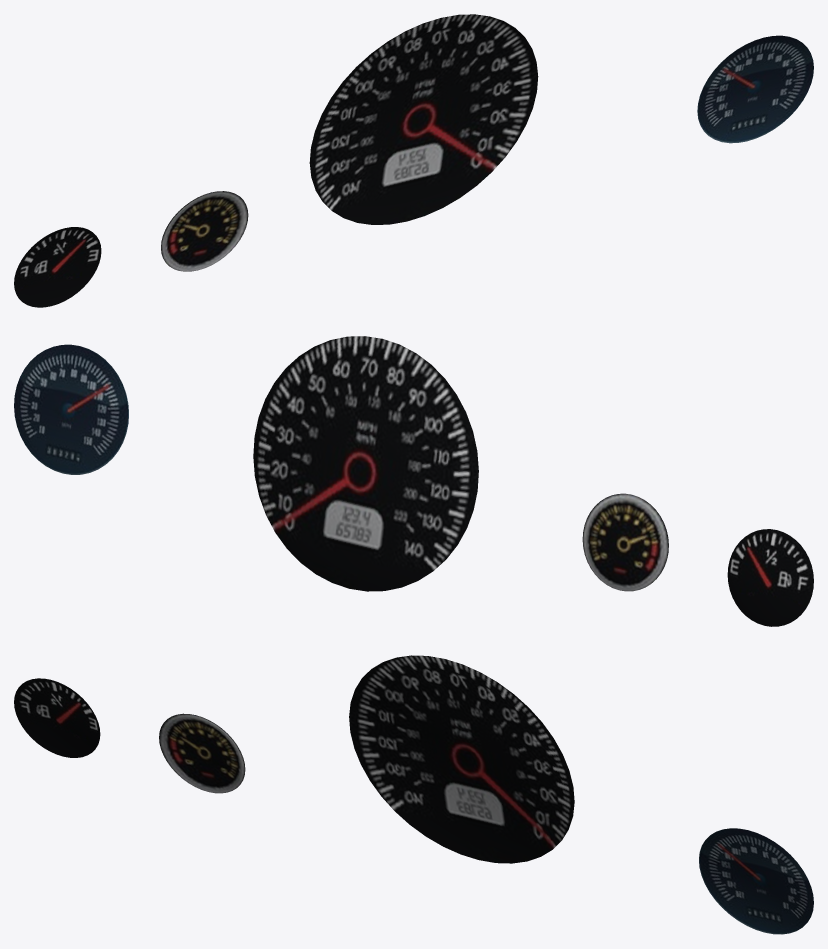
The model's file is Tacometros.fbx.
The picture shows the model from 3 angles, top to bottom: view 1: azimuth 30°, elevation 25°; view 2: azimuth 150°, elevation 25°; view 3: azimuth 330°, elevation 25°; orthographic projection.
Parts seen in each view (by area): view 1: Tacometros; view 2: Tacometros; view 3: Tacometros.
Part boxes in pixels (x1,y1,x2,y2): Tacometros: (14,14,813,307); Tacometros: (14,336,813,626); Tacometros: (14,655,813,934).
Bounding box in the file's own units: 2.68 × 0.7268 × 0.2607.
